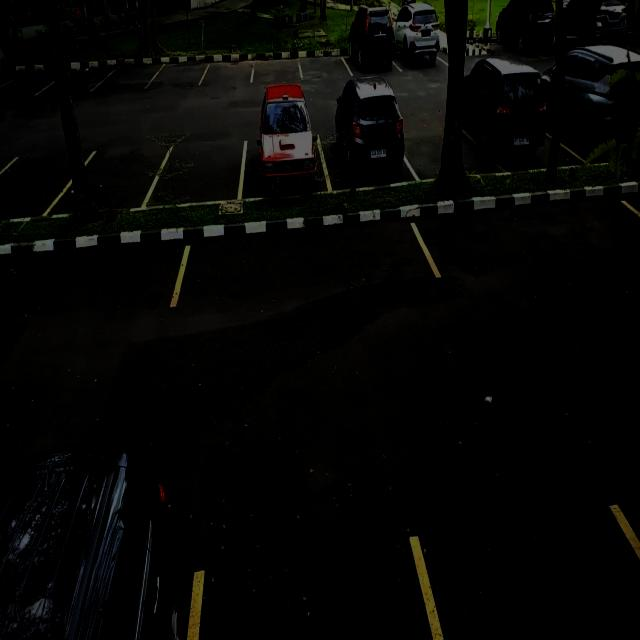empty: (421, 508, 640, 640), (191, 535, 441, 638), (175, 223, 423, 311), (427, 203, 640, 286), (0, 241, 181, 316), (70, 147, 161, 215), (156, 141, 244, 207), (0, 156, 63, 223), (44, 58, 102, 94), (204, 52, 256, 86), (104, 55, 156, 89), (154, 55, 205, 89), (300, 45, 348, 80), (253, 52, 303, 82), (8, 65, 46, 100)
occupied: (466, 72, 550, 173), (560, 63, 638, 164), (326, 97, 409, 188), (244, 121, 324, 201), (347, 22, 396, 78), (396, 13, 442, 72)
